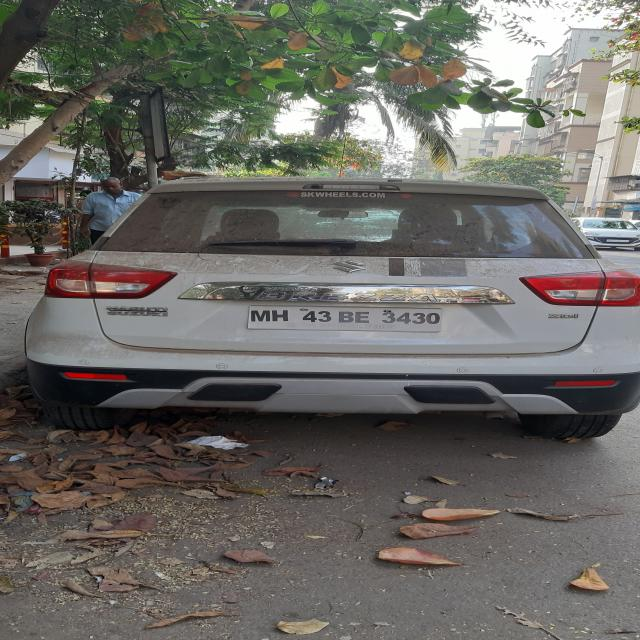Number-Plate: (242, 303, 443, 332)
